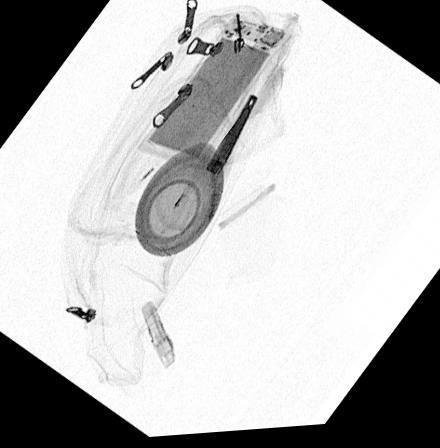Powerbank: (135, 13, 291, 172)
